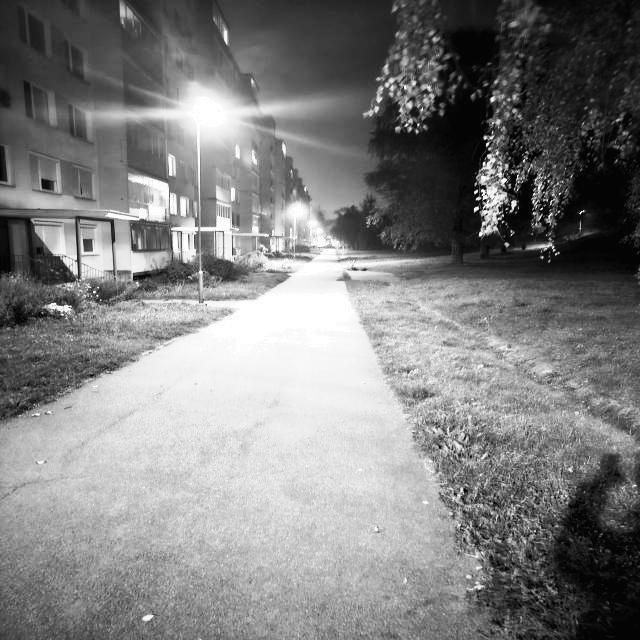Light: (194, 108, 216, 304), (292, 207, 301, 260), (309, 221, 316, 253), (316, 227, 322, 252)
